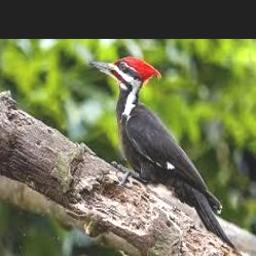Woodpecker: (87, 55, 239, 251)
